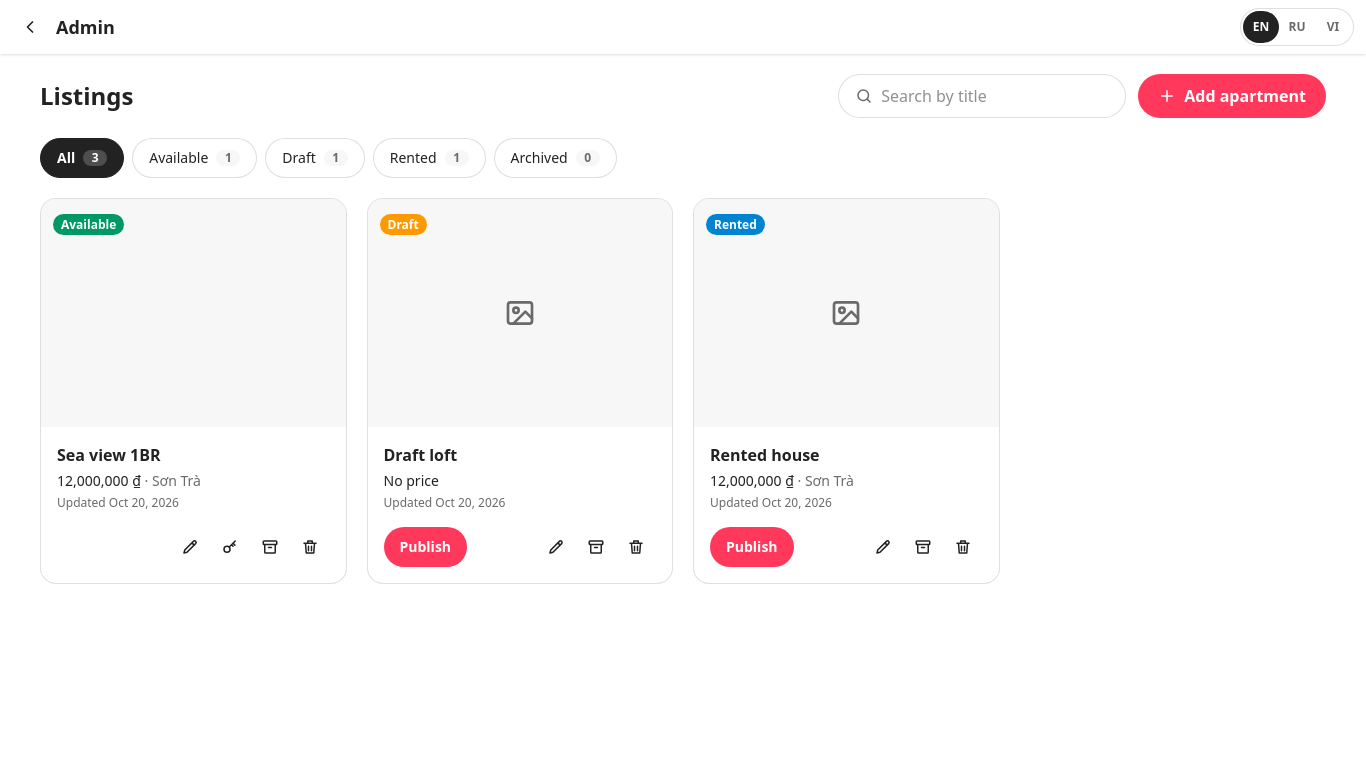
Test: dashboard › shows counts, searches and filters listings
Expected: the button "All 3" is shown, [40,138,124,178]
Expected: the button "Draft 1" is shown, [265,138,365,178]
Type "loft" into the search field labelled "Search by title" at x=995, y=96, box [881,84,1109,108]
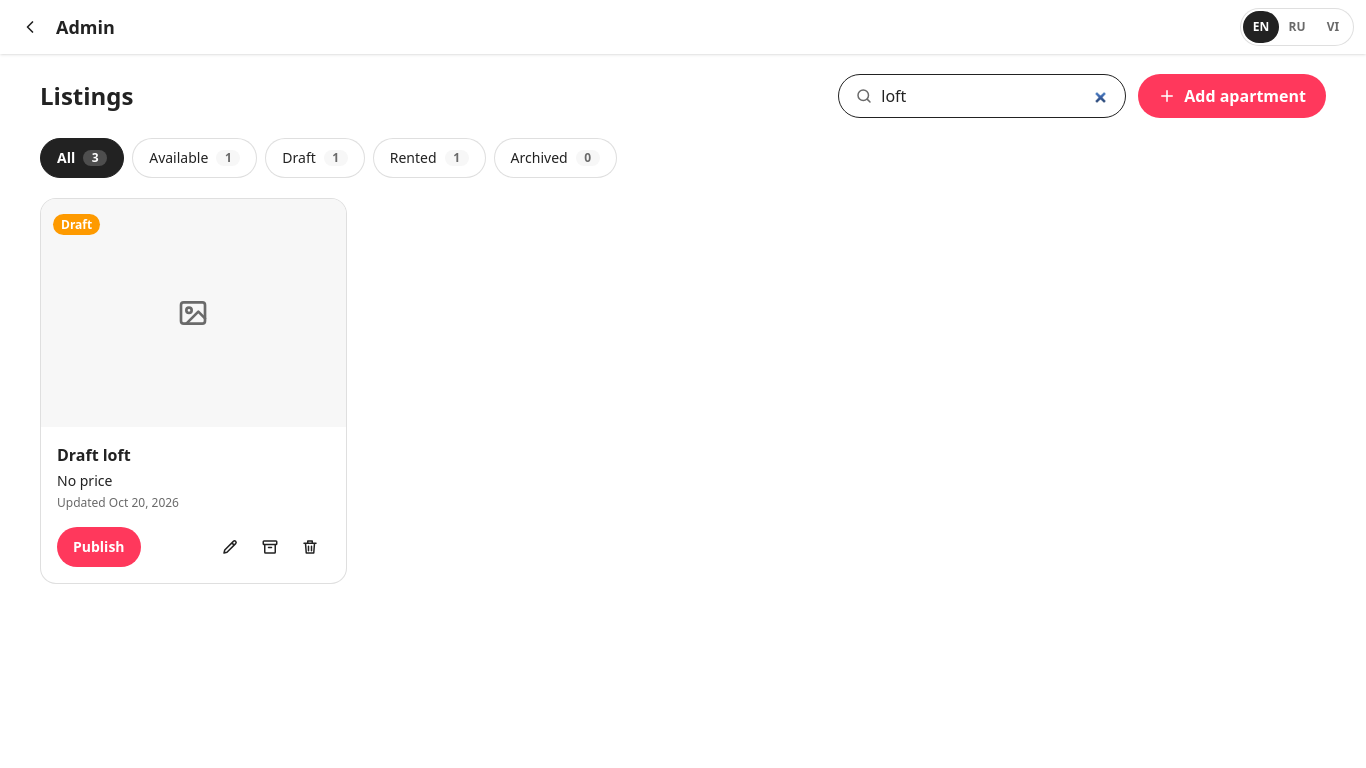
Expected: the heading "Draft loft" is shown, [57,444,131,466]
Now the heading "Sea view 1BR" is gone
Clear the search field at x=995, y=96, box [881,84,1109,108]
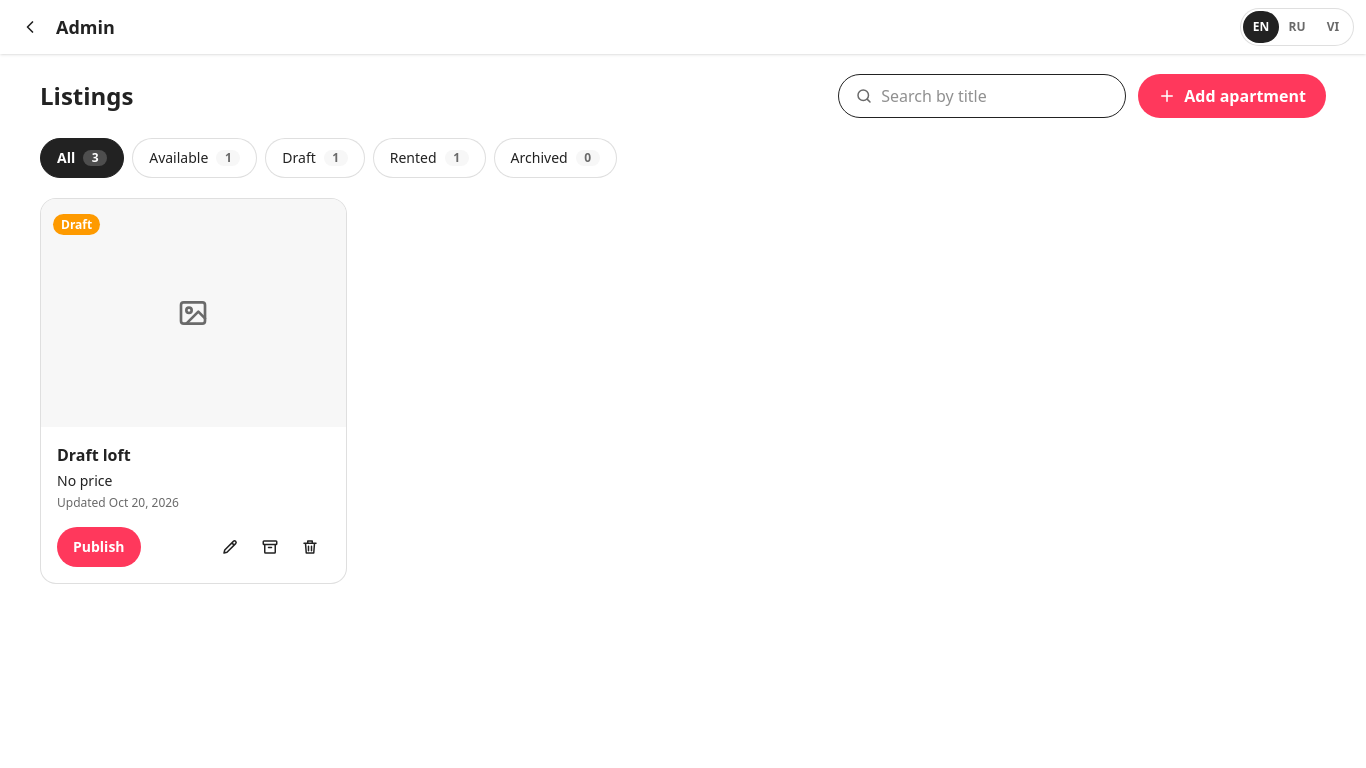
Click the button "Rented 1" at x=429, y=158, box [373,138,486,178]
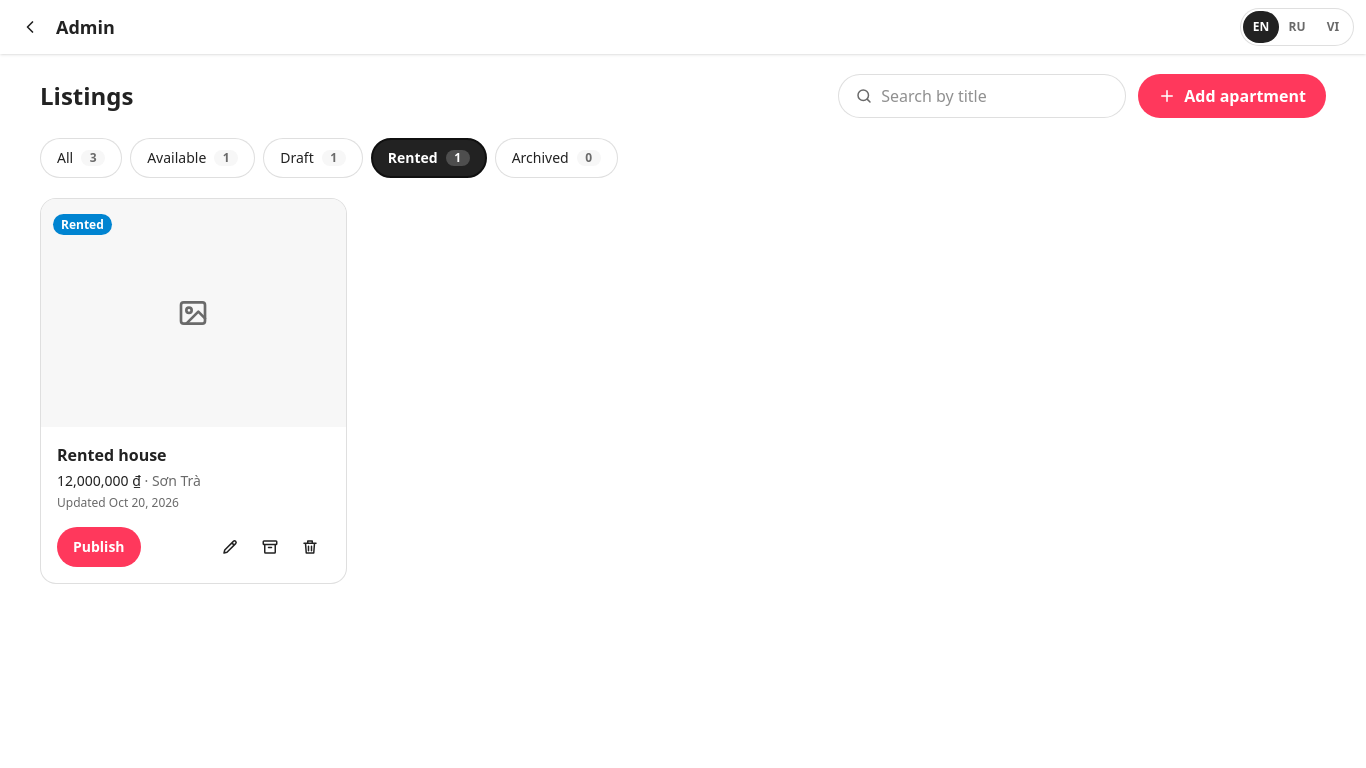
Now the heading "Draft loft" is gone
Now the heading "Rented house" is shown, box [57,444,167,466]
